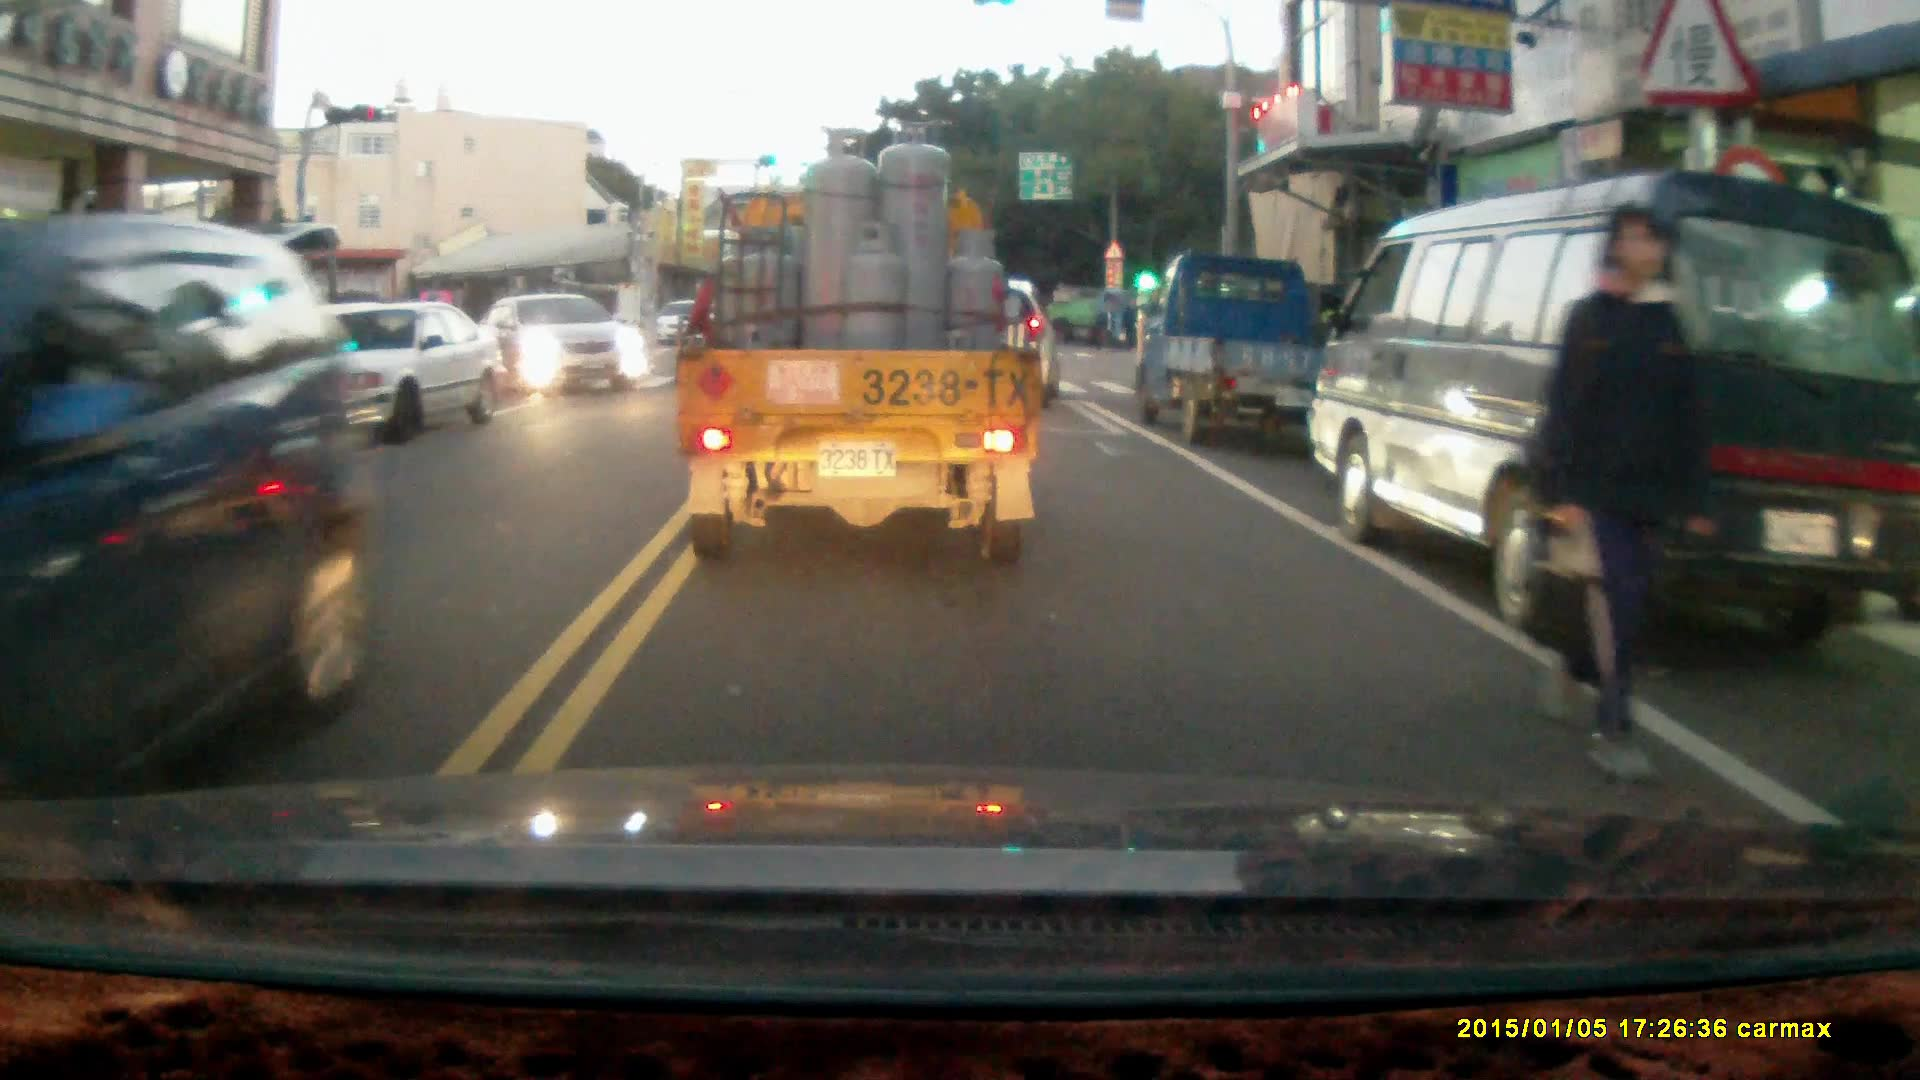pedestrian: (1544, 200, 1716, 786)
vehicle: (1307, 167, 1897, 656), (1, 214, 380, 825), (676, 124, 1046, 569), (238, 299, 512, 451), (1136, 248, 1335, 443), (893, 268, 1065, 409), (488, 293, 646, 399)
